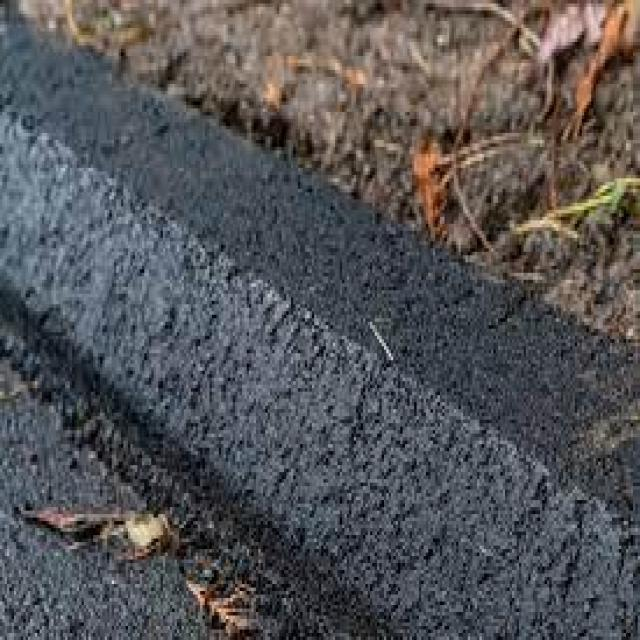curb: (6, 11, 634, 637)
